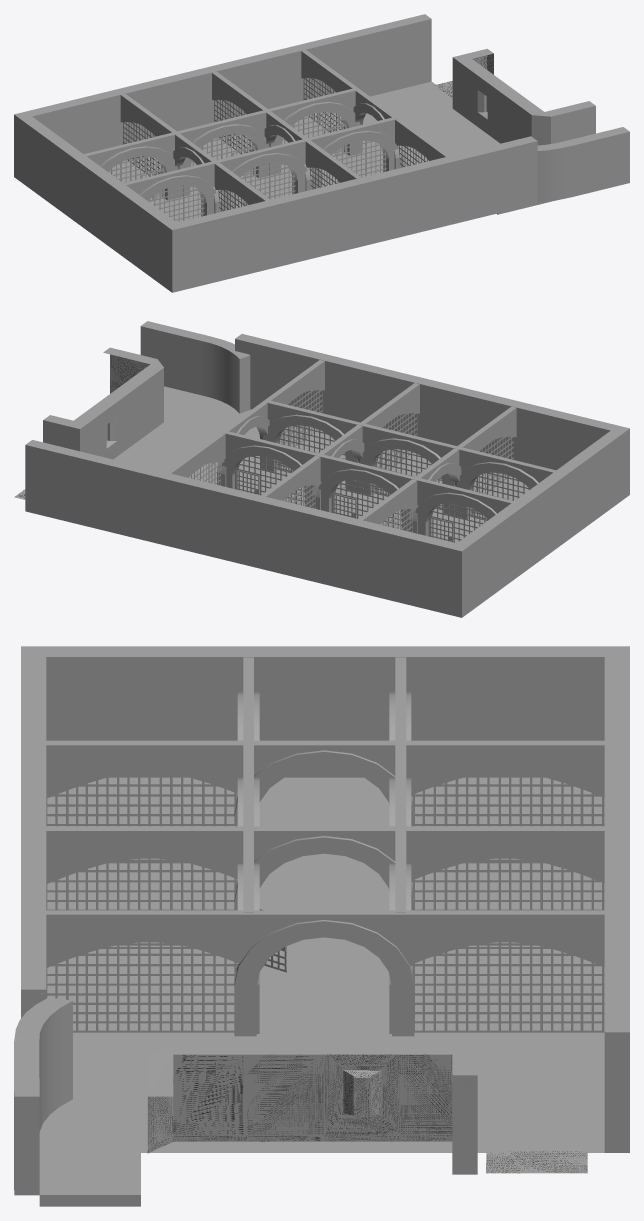
File: DungeonV2.fbx
3 renders of one model, top to bottom at view 1: azimuth 30°, elevation 25°; view 2: azimuth 150°, elevation 25°; view 3: azimuth 270°, elevation 25°, orthographic. The views are drawn at different scales.
Parts seen in each view (by area): view 1: pCube422, pCube430, pCube431, pCube425, polySurface449, pCube424, pCube432, pCube1__1_6, pCube423, pCube14, pCube557, pCube558 (+23 smaller); view 2: pCube422, pCube423, pCube425, pCube424, polySurface449, pCube431, pCube14, pCube430, pCube1__1_6, pCube432, pCube558, pCube557 (+24 smaller); view 3: pCube422, pCube1__1_6, pCube1__1_5, polySurface449, pCube1__1_4, polySurface476, polySurface473, polySurface475, pCube740, pCube14, pCube741, pCube5 (+18 smaller).
Boxes of the visible parts, x1,y1,x2,y2 form: pCube422: (20,116,176,287); pCube430: (165,192,309,292); pCube431: (303,158,446,259); pCube425: (288,14,431,102); polySurface449: (452,48,595,145); pCube424: (151,47,294,131); pCube432: (440,136,537,225); pCube1__1_6: (302,81,499,173); pCube423: (14,81,157,181); pCube14: (537,127,629,202); pCube557: (123,117,396,194); pCube558: (84,88,357,165); pCube422: (457,430,622,612); pCube423: (316,511,468,617); pCube425: (25,440,177,546); pCube424: (171,475,322,582); polySurface449: (43,347,163,459); pCube431: (332,357,483,445); pCube14: (140,321,250,413); pCube430: (477,393,629,499); pCube1__1_6: (113,394,323,491); pCube432: (235,334,338,415); pCube558: (223,431,513,513); pCube557: (265,400,555,482); pCube422: (46,646,604,777); pCube1__1_6: (46,1024,604,1152); pCube1__1_5: (47,895,604,1024); polySurface449: (147,1042,477,1174); pCube1__1_4: (47,777,604,895); polySurface476: (46,910,604,967); polySurface473: (46,740,604,798); polySurface475: (46,826,604,883); pCube740: (410,942,604,1032); pCube14: (14,997,72,1195); pCube741: (40,942,238,1032); pCube5: (39,1077,140,1206).
Bounding box in the file's own units: 39.99 × 5.74 × 24.27.
